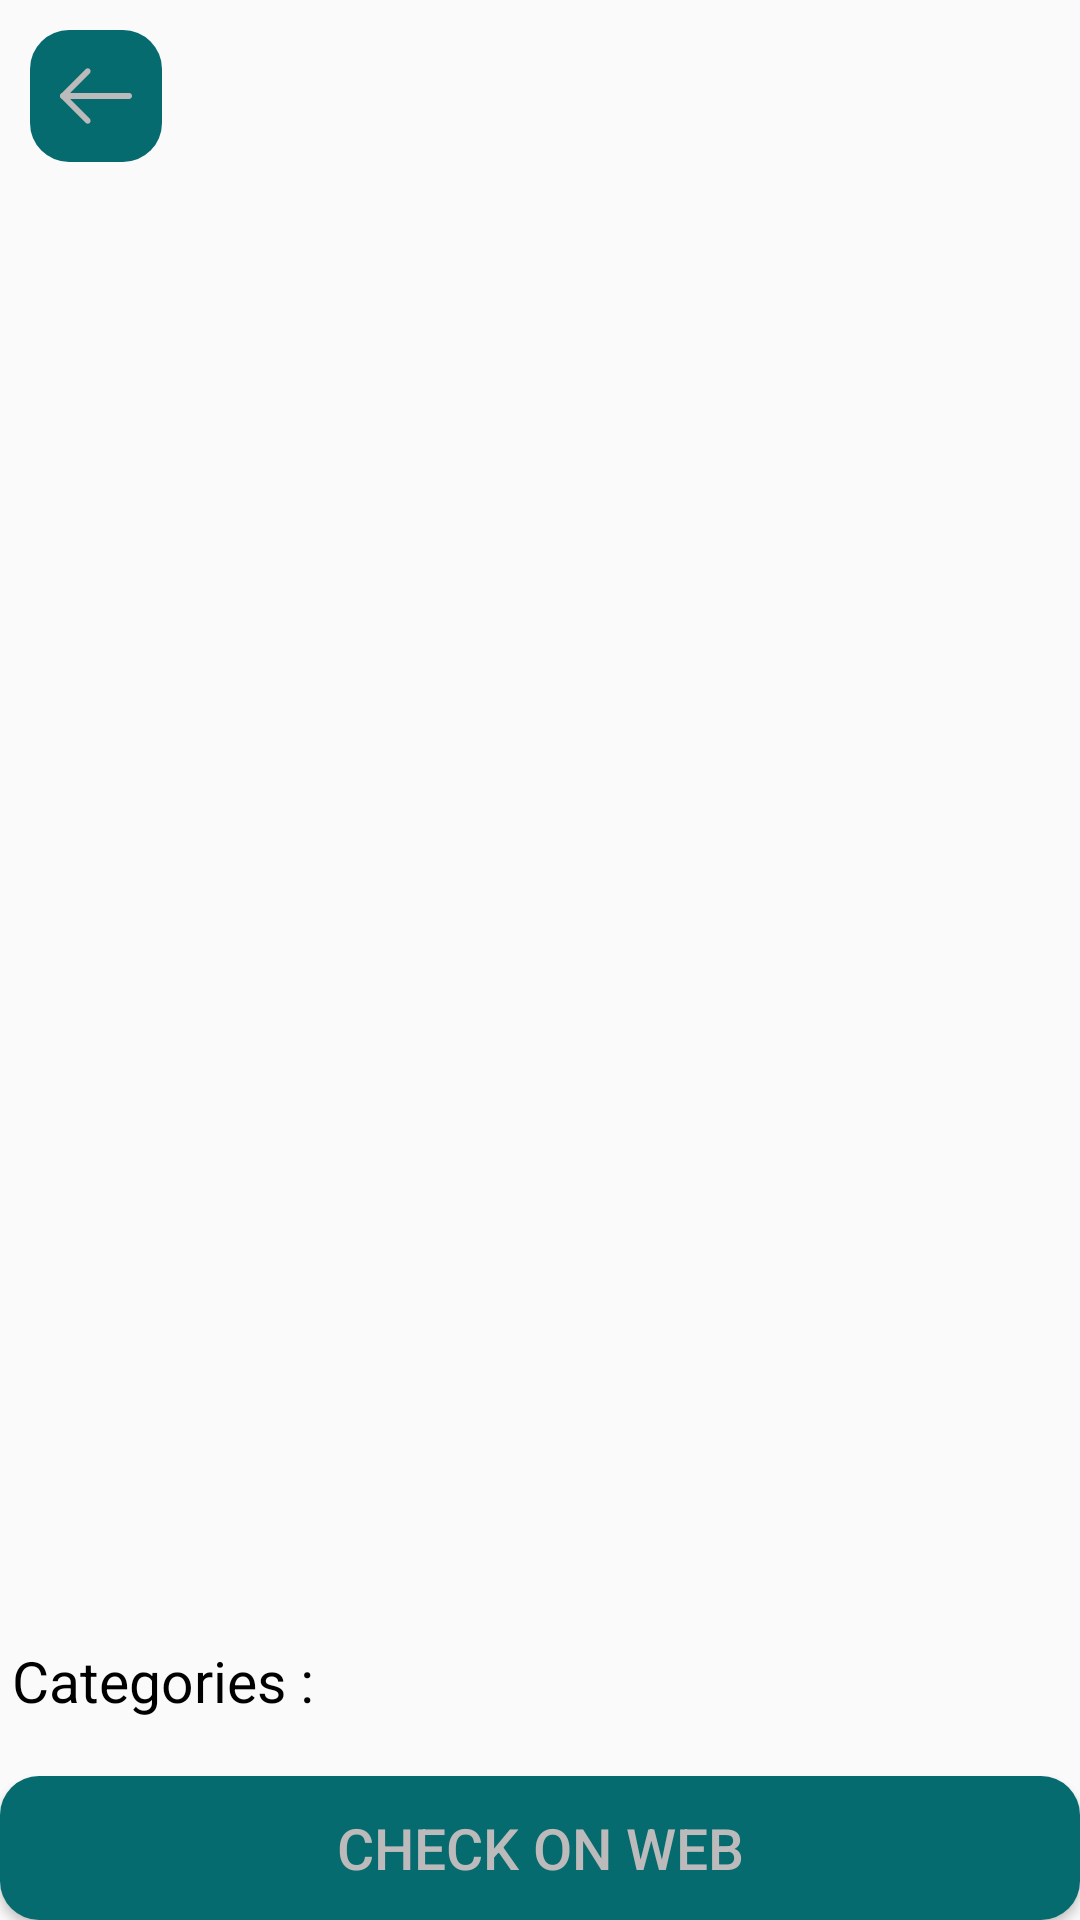

Icon click points for this 1080 x 1920 phone screenshot, format [x,y]:
back: [96,96]
